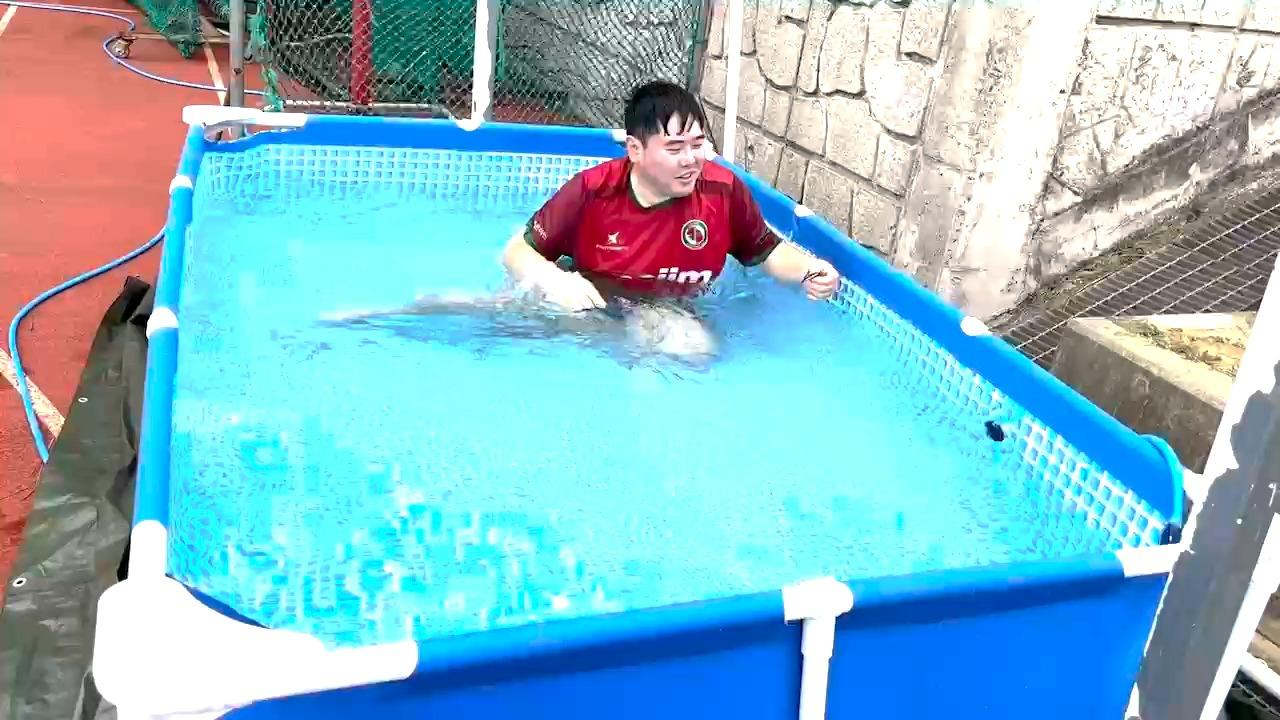Swimming: (346, 53, 866, 361)
